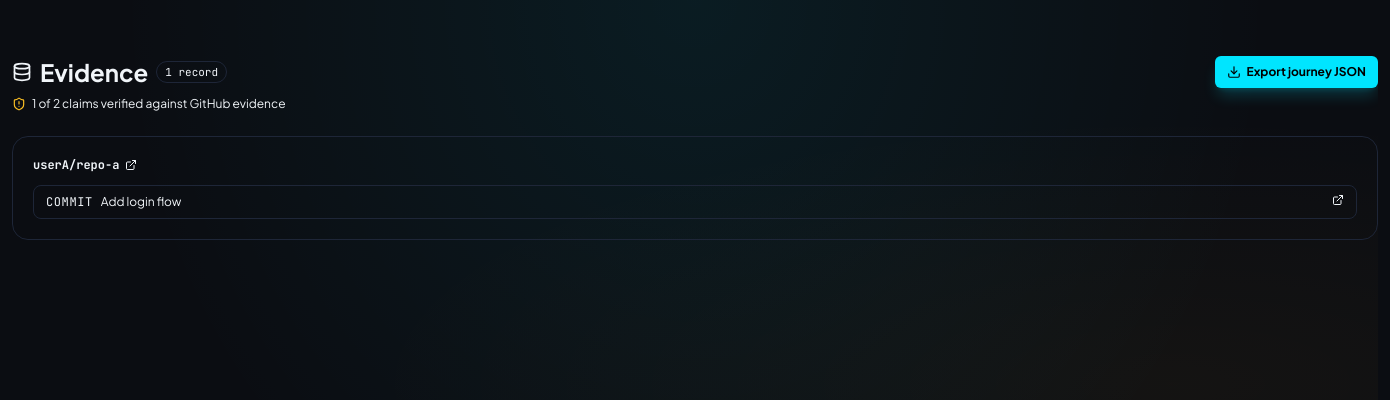
Test: EvidencePanel › surfaces export errors
The width and height of the screenshot is (1390, 400).
Click the button "Export journey JSON". click: (1296, 72)
box: [1214,56,1378,88]
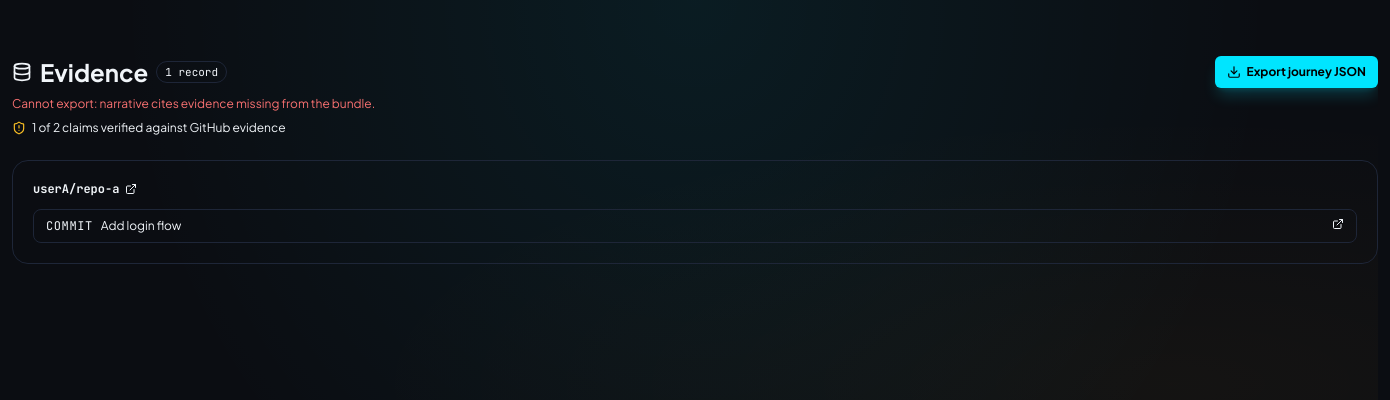
Expected: the text "Cannot export: narrative cites evidence missing from the bundle" is shown, [12,96,375,111]
